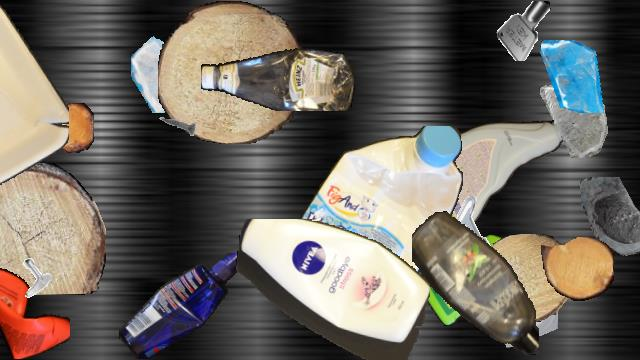glass: (131, 29, 215, 113), (577, 177, 640, 271), (537, 84, 611, 158), (537, 40, 609, 112), (299, 199, 361, 261), (501, 291, 557, 347)
metal: (445, 194, 507, 256), (495, 1, 555, 61), (11, 256, 55, 300), (156, 106, 196, 146)
plastic: (280, 126, 466, 332), (234, 219, 430, 359), (392, 114, 566, 242), (412, 209, 538, 359), (118, 253, 248, 359), (0, 1, 68, 191), (201, 43, 355, 111), (418, 234, 528, 326), (0, 265, 69, 359)
wood: (158, 1, 302, 143), (0, 163, 105, 295), (475, 234, 573, 322), (541, 237, 613, 301), (51, 103, 93, 153), (0, 93, 26, 169)
